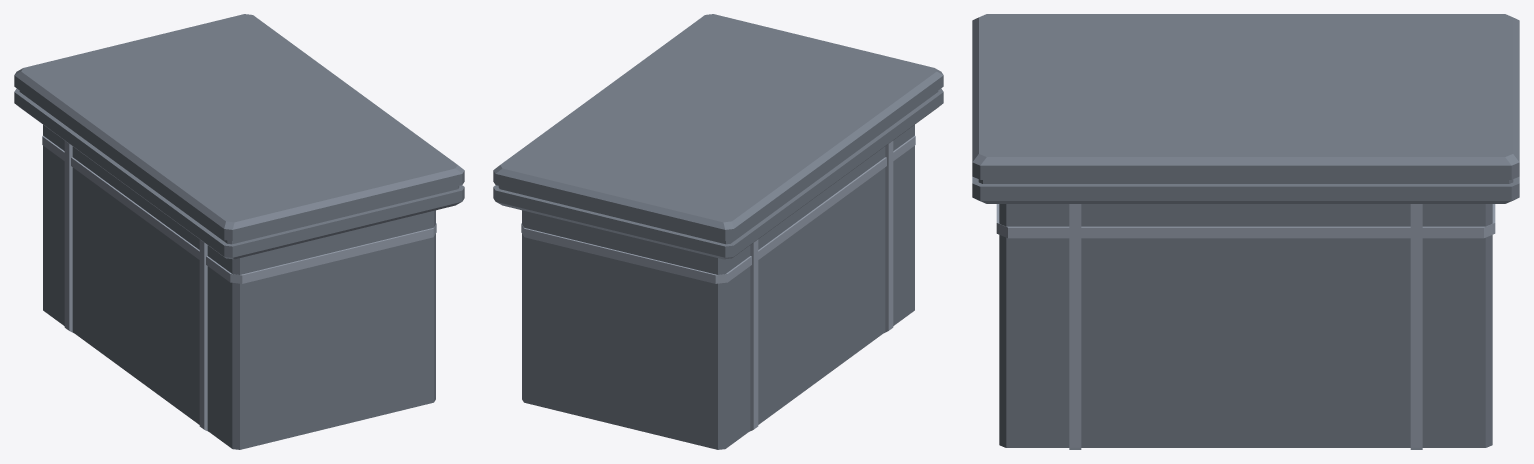
3 views of the same model, side by side, from view 1: azimuth 30°, elevation 25°; view 2: azimuth 150°, elevation 25°; view 3: azimuth 270°, elevation 25° (orthographic). The views are drawn at different scales.
Parts seen in each view (by area): view 1: box; view 2: box; view 3: box.
Boxes of the visible parts, left/top/right/bottom form: box: left=14, top=14, right=464, bottom=449; box: left=493, top=14, right=943, bottom=449; box: left=972, top=14, right=1519, bottom=449.
Size of the model in its own units: 0.5699 by 0.5442 by 0.8868.
